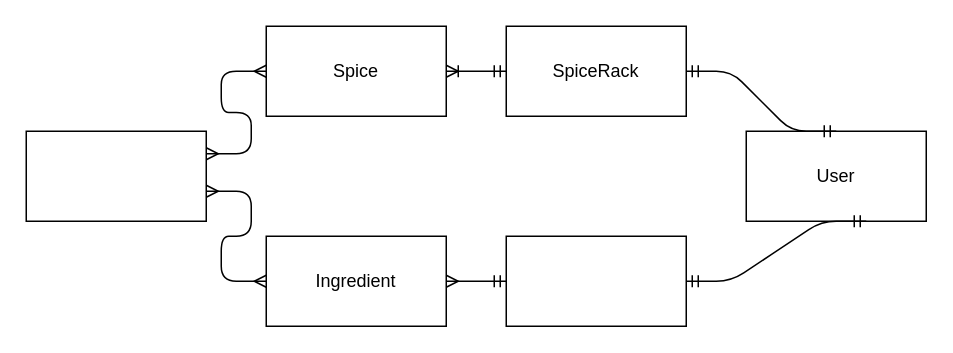
This 953x353 diagram has some shape labels left out. Here are the shapes that lost their labels. From the top down, the box of each, then its label:
(25, 130, 206, 221): Meal
(505, 235, 686, 326): Fridge
